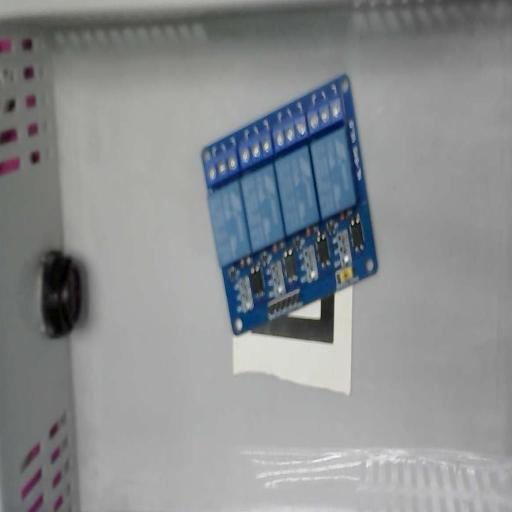relay_module: (200, 74, 379, 337)
